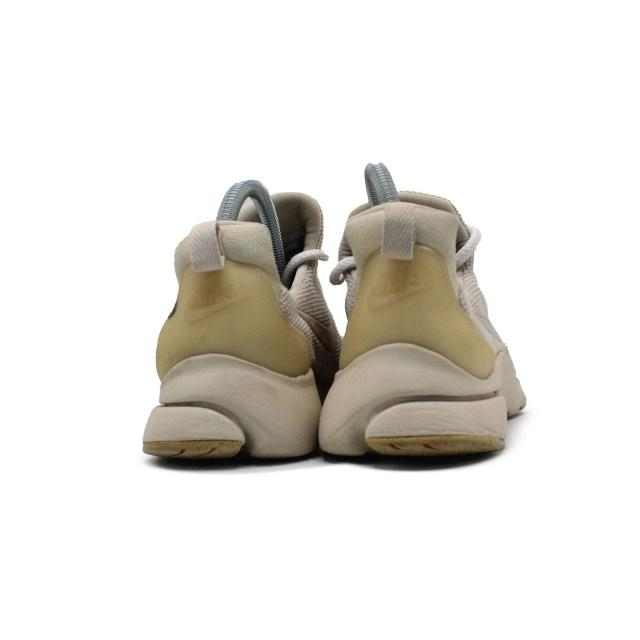heel: (145, 208, 309, 372), (336, 198, 485, 370)
midsole: (318, 348, 508, 458), (150, 356, 307, 460)
